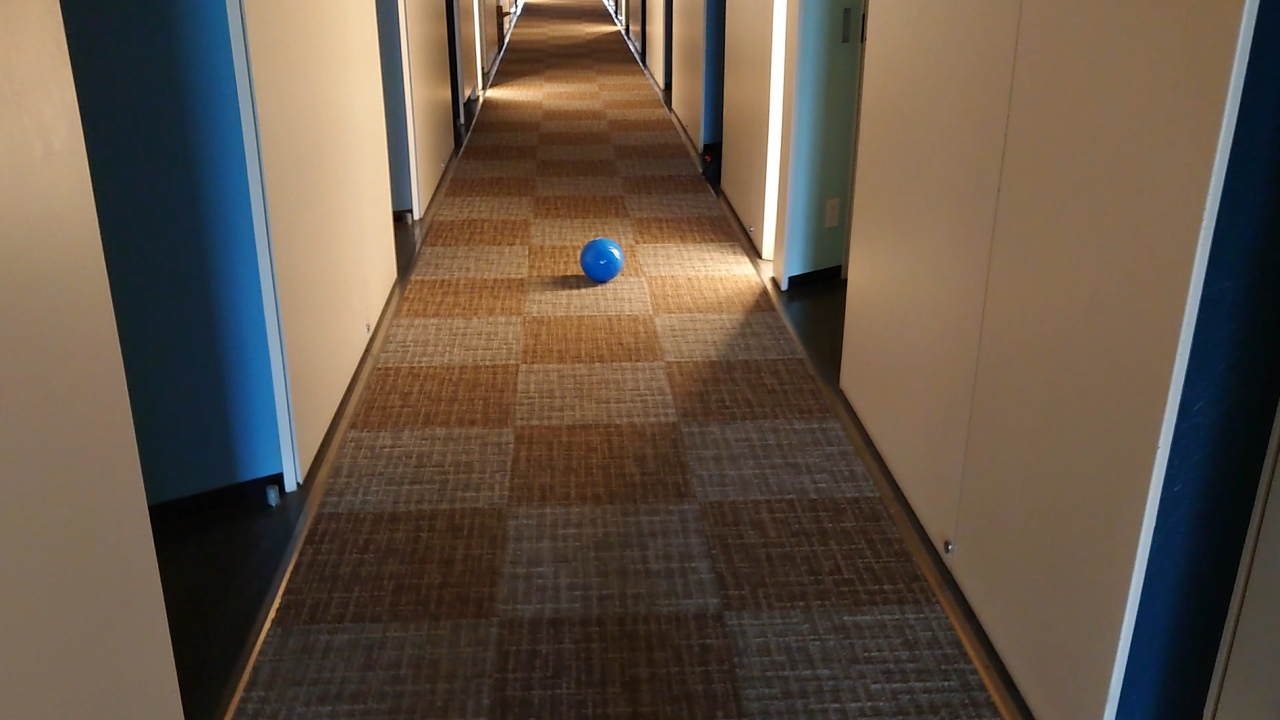blue: (576, 235, 624, 282)
